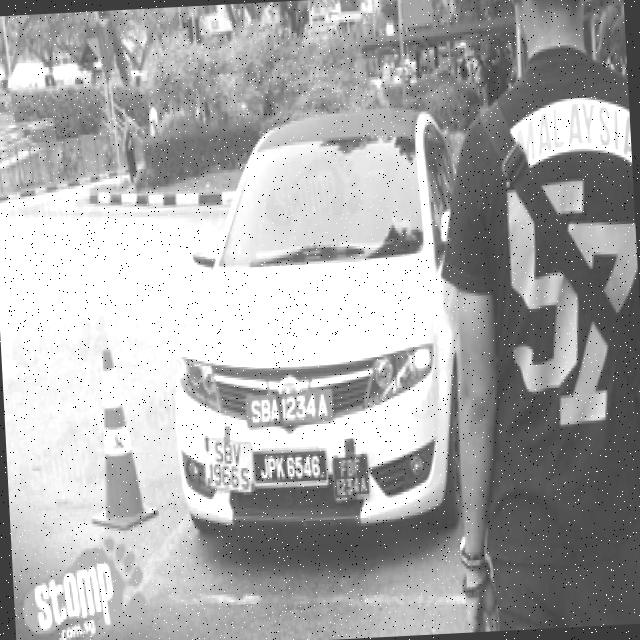Autre: (196, 431, 258, 505), (245, 390, 338, 430), (255, 452, 326, 490)
